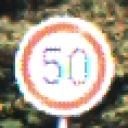speed_limit_50: (16, 18, 114, 118)
